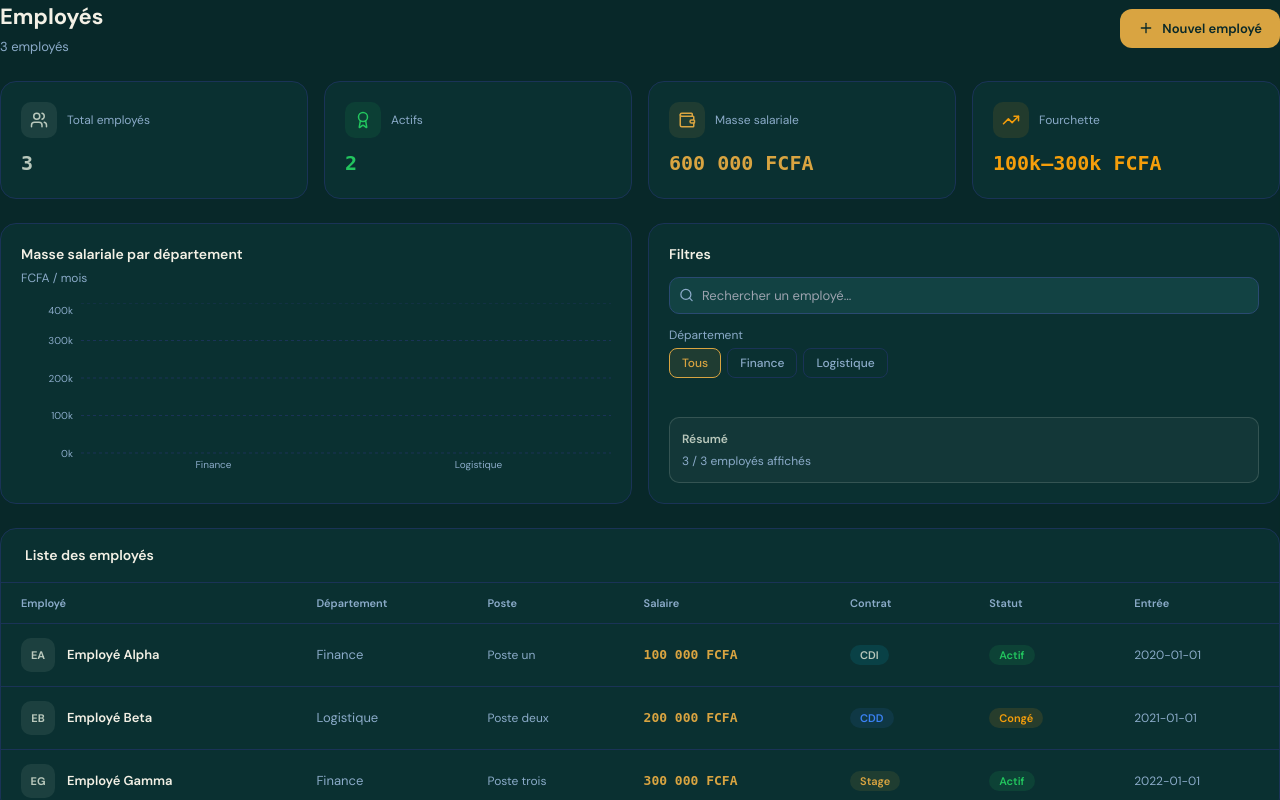
EmployesPage › avec des employés saisis › filtre par département
expect the text "Employé Alpha" is shown: met, box [67, 645, 160, 665]
Click the button "Logistique" at (846, 363), box [803, 348, 888, 378]
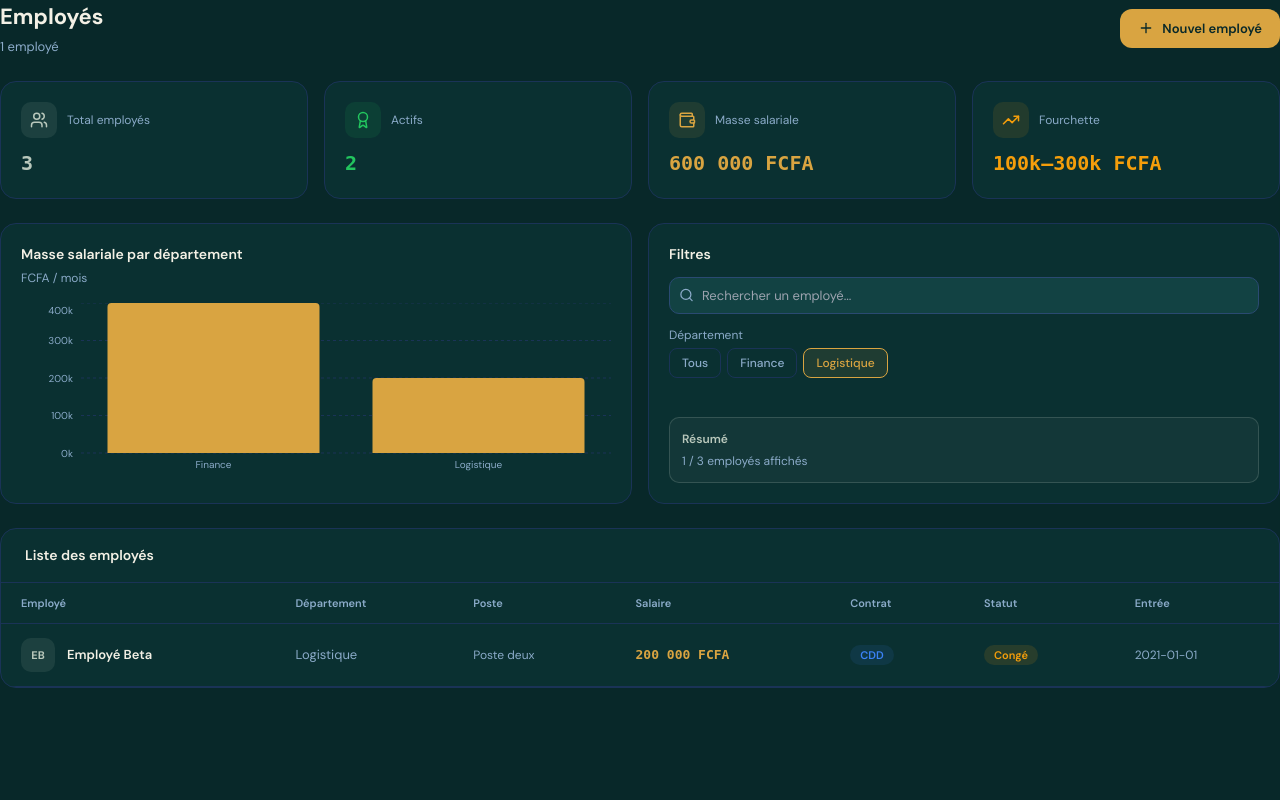
expect the text "Employé Beta" is shown: met, box [67, 645, 152, 665]
expect the text "Employé Alpha" is gone: met
